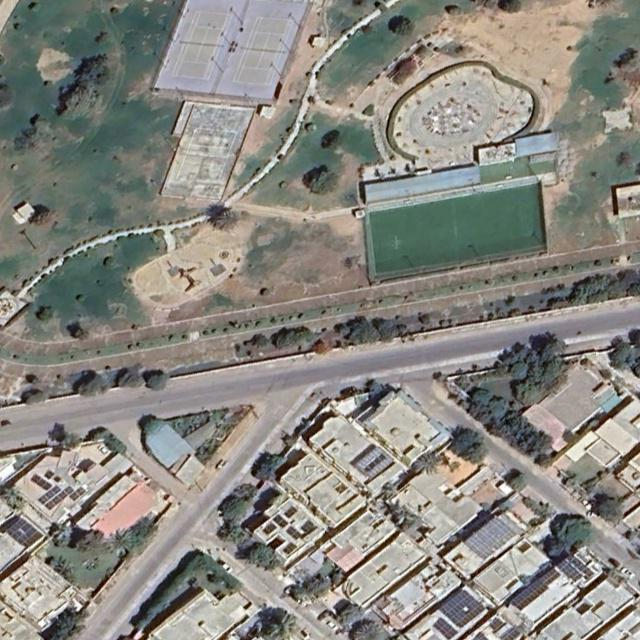solar panel: (465, 514, 517, 563), (511, 566, 562, 612), (437, 586, 483, 632), (355, 444, 392, 481), (7, 516, 43, 551), (286, 513, 318, 543), (45, 484, 74, 511), (557, 558, 584, 583), (568, 554, 595, 578), (433, 617, 458, 640), (38, 484, 61, 505), (30, 473, 52, 492), (487, 615, 506, 633), (501, 624, 521, 640), (69, 485, 86, 502), (283, 541, 297, 556), (274, 514, 288, 528), (284, 505, 298, 518), (264, 522, 277, 535), (44, 469, 55, 480), (474, 632, 487, 640), (53, 474, 62, 483)
